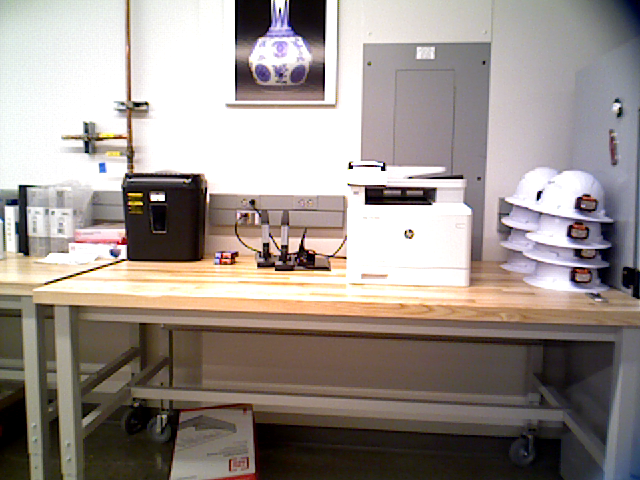painting2: (230, 1, 327, 108)
